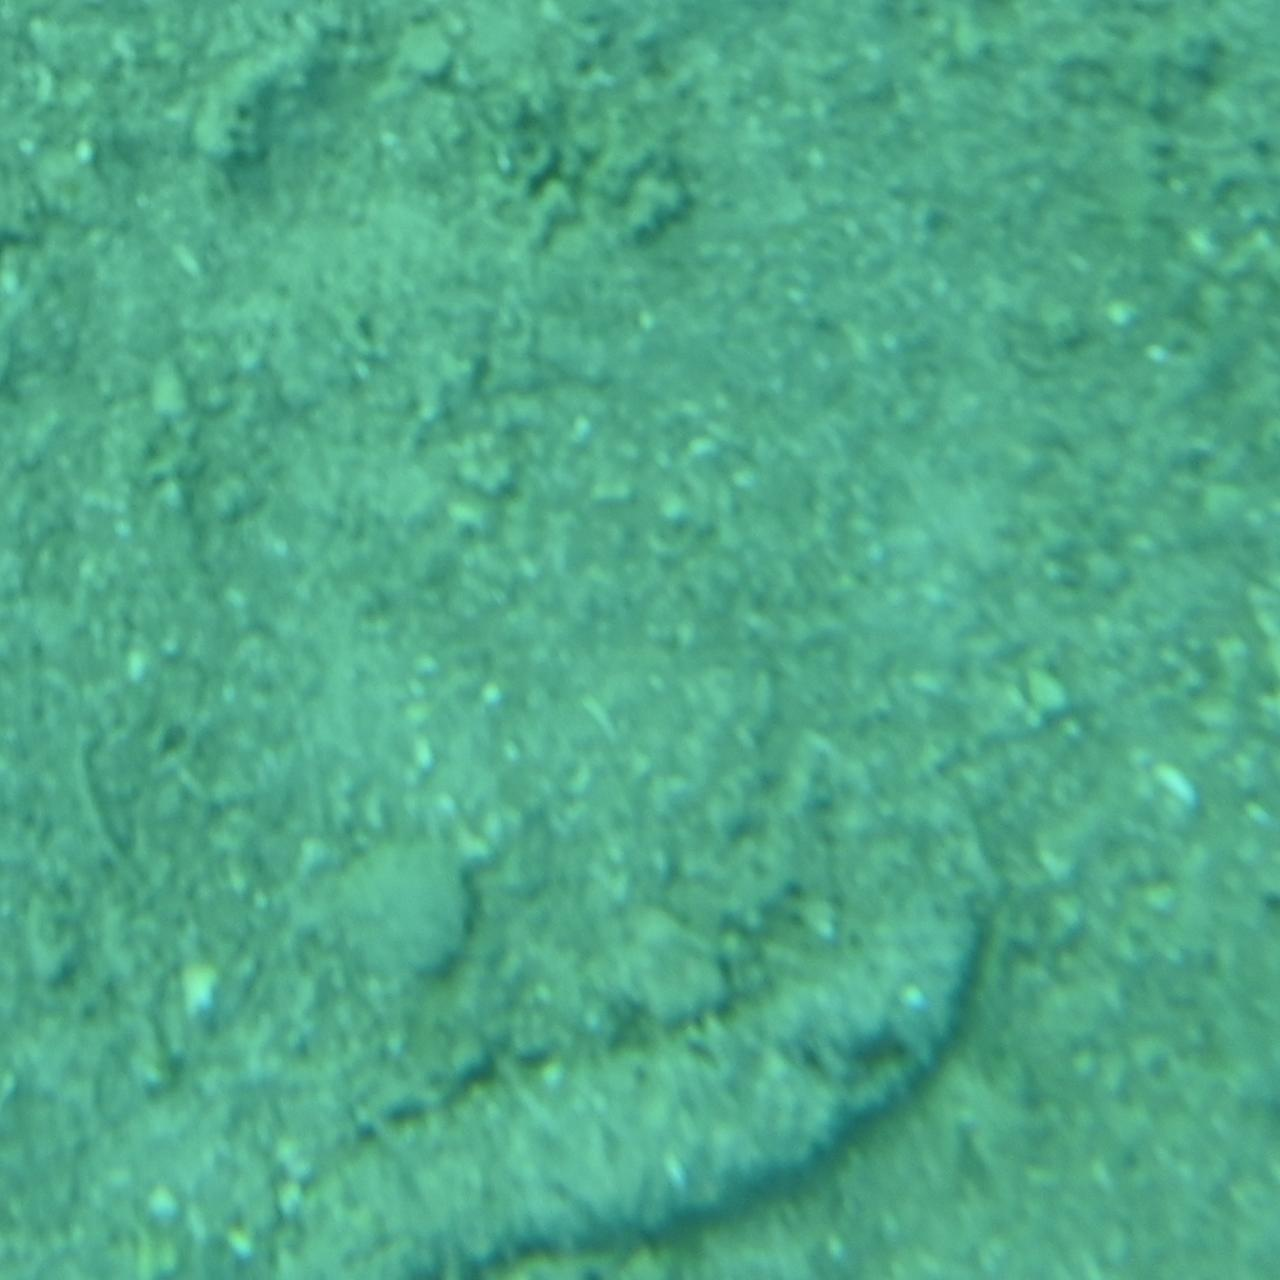Holothuria tubulosa: (262, 865, 1018, 1279)
